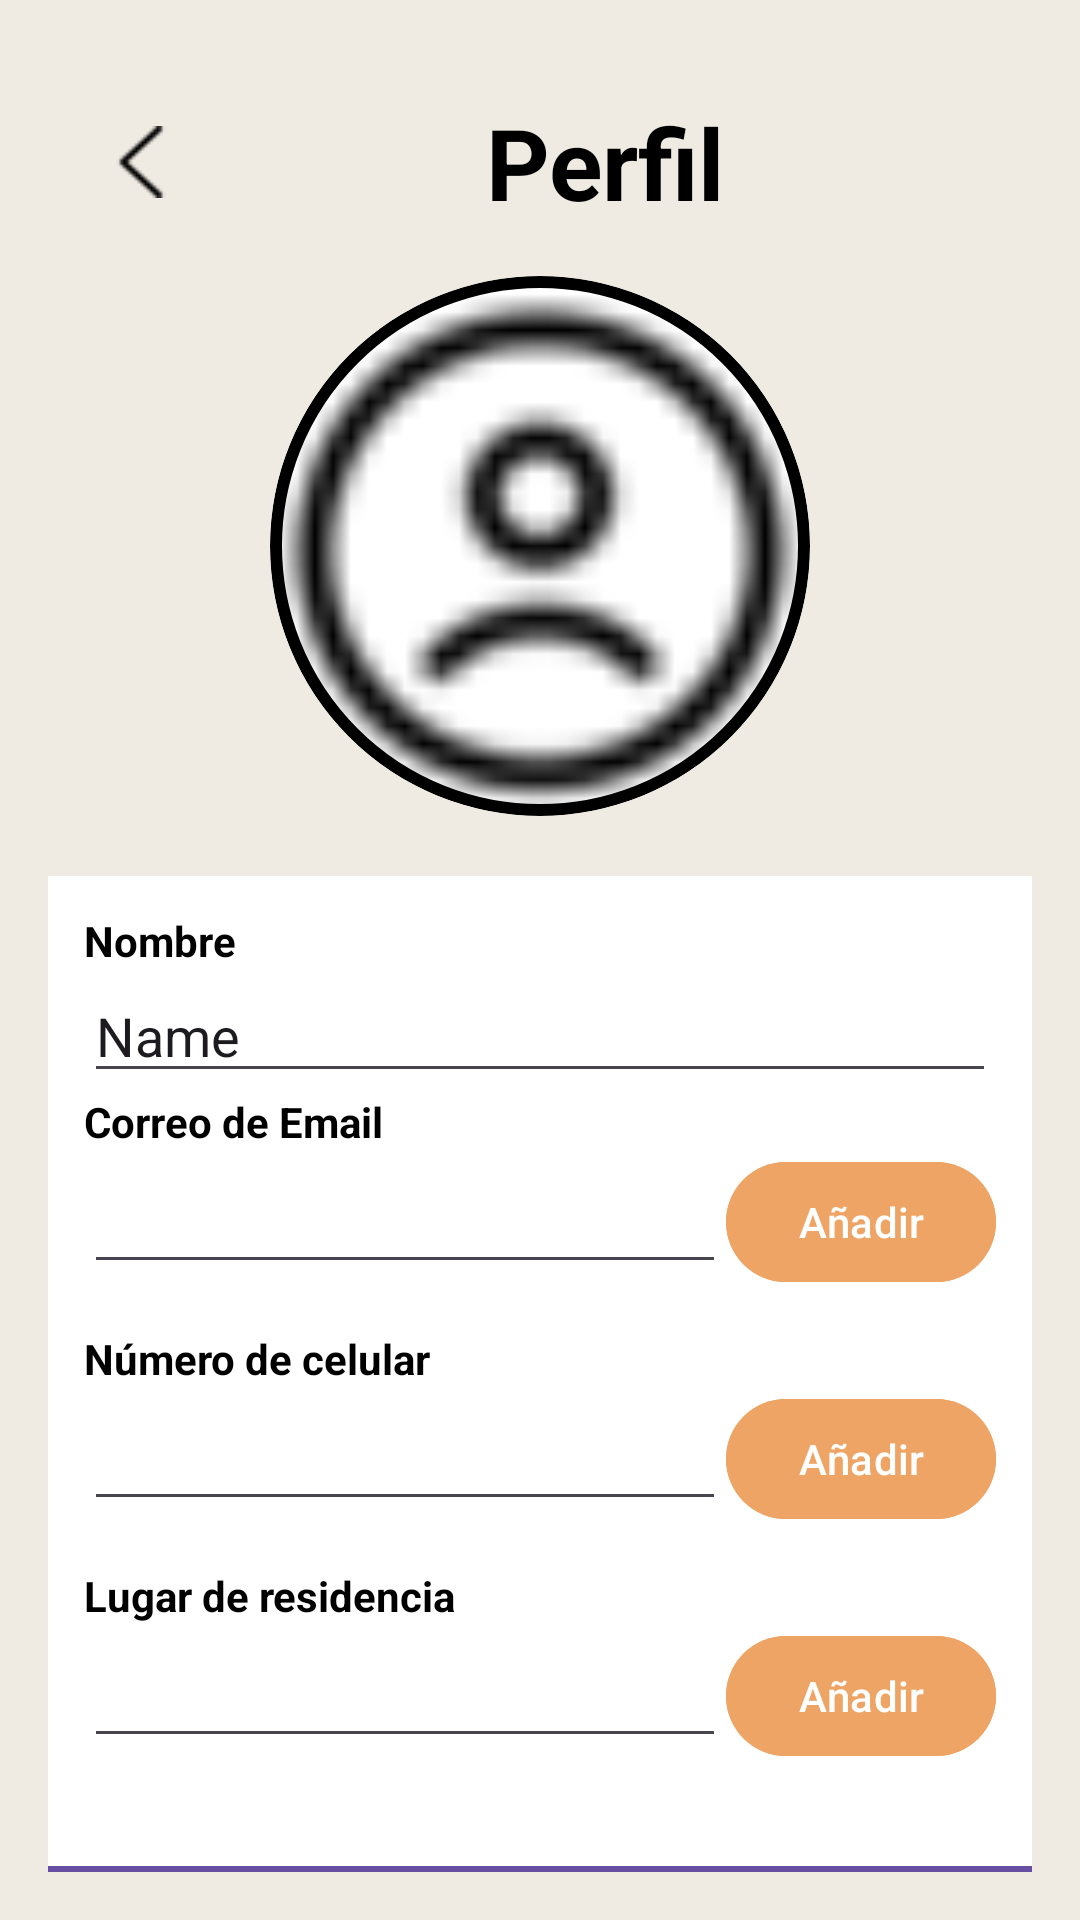

Named icons in this screenshot (1080*1920) and their centers, (x=x, y=y):
Volver: (x=141, y=162)
